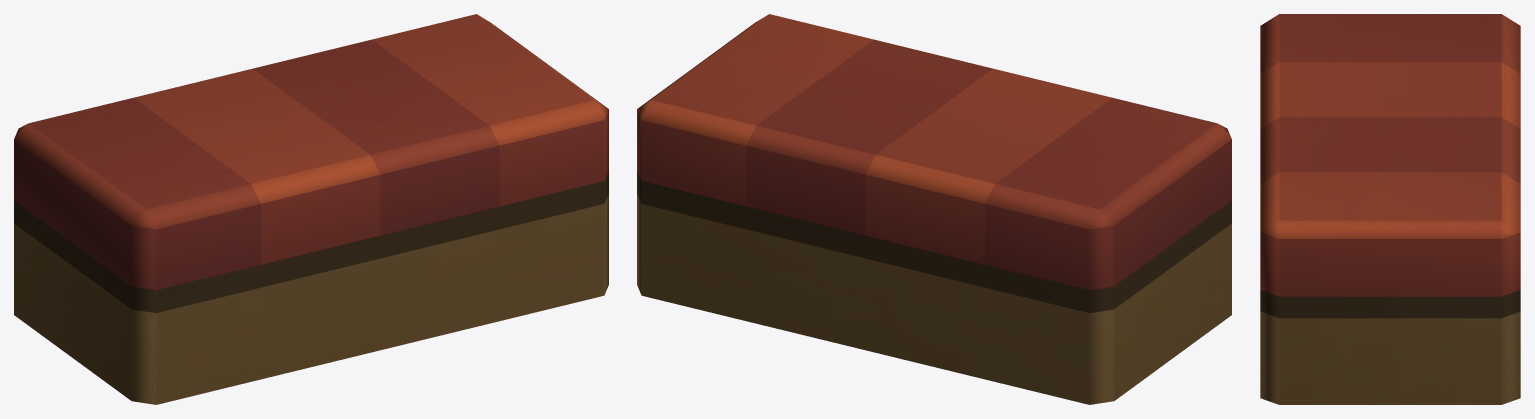
File: chair_roof_footrest_x2_red.fbx
3 renders of one model, left to right at view 1: azimuth 30°, elevation 25°; view 2: azimuth 150°, elevation 25°; view 3: azimuth 270°, elevation 25°, orthographic. The views are drawn at different scales.
Visible parts, largest first — view 1: chair_roof_footrest_x2_red; view 2: chair_roof_footrest_x2_red; view 3: chair_roof_footrest_x2_red.
Boxes of the visible parts, x1=… form: chair_roof_footrest_x2_red: x1=14, y1=14, x2=608, y2=404; chair_roof_footrest_x2_red: x1=637, y1=14, x2=1231, y2=404; chair_roof_footrest_x2_red: x1=1260, y1=14, x2=1520, y2=404.
Bounding box in the file's own units: 100 × 37.68 × 50.
